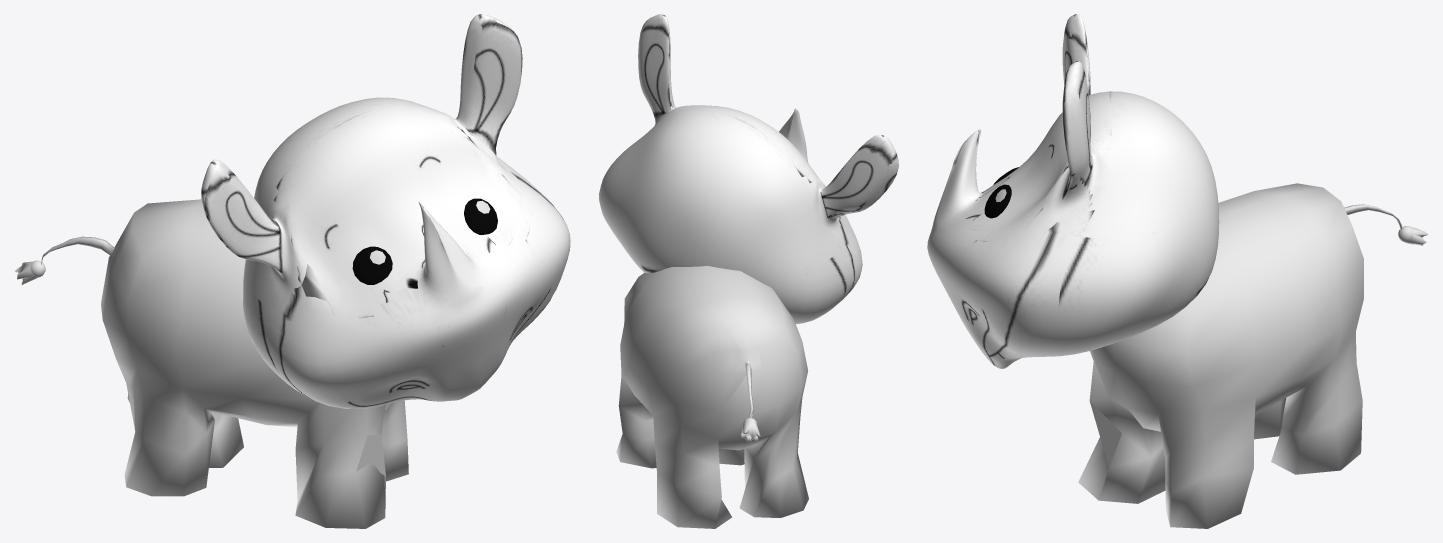
File: testRino2.fbx
3 renders of one model, left to right at view 1: azimuth 30°, elevation 25°; view 2: azimuth 150°, elevation 25°; view 3: azimuth 270°, elevation 25°, orthographic. The views are drawn at different scales.
Visible parts, largest first — view 1: Corps, Front, Machoire, Oreilles, Corne, Oeil Gauche, Oeil Droite; view 2: Corps, Front, Machoire, Oreilles, Corne, Queue; view 3: Corps, Machoire, Front, Oreilles, Corne, Oeil Droite.
Part boxes in pixels (<box>): Corps: <box>41,199,408,528</box>; Front: <box>243,97,532,318</box>; Machoire: <box>243,162,570,408</box>; Oreilles: <box>201,14,522,272</box>; Corne: <box>417,202,483,302</box>; Oeil Gauche: <box>352,246,392,284</box>; Oeil Droite: <box>464,198,497,234</box>; Corps: <box>616,265,808,528</box>; Front: <box>618,105,842,279</box>; Machoire: <box>599,149,862,324</box>; Oreilles: <box>638,14,898,219</box>; Corne: <box>779,108,808,163</box>; Queue: <box>740,418,760,443</box>; Corps: <box>1078,183,1402,528</box>; Machoire: <box>927,209,1219,368</box>; Front: <box>958,91,1218,241</box>; Oreilles: <box>1062,14,1092,199</box>; Corne: <box>933,129,981,224</box>; Oeil Droite: <box>984,184,1011,218</box>.
Size of the model in its own units: 303 by 401 by 380.
